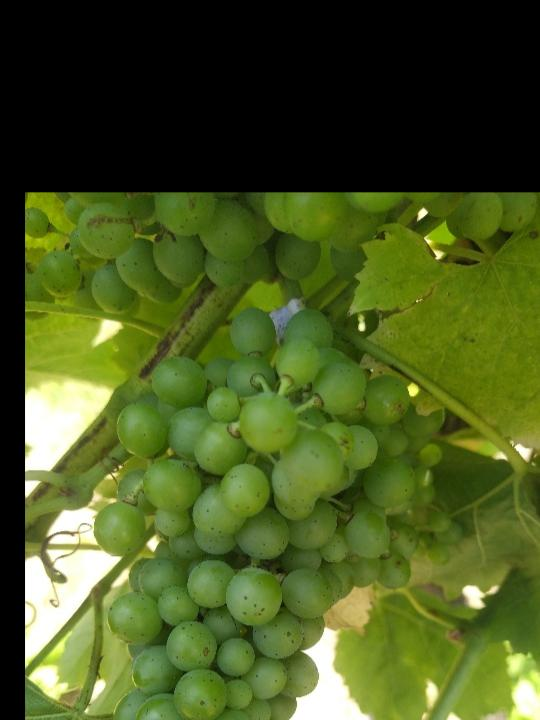grape: (87, 303, 446, 720)
